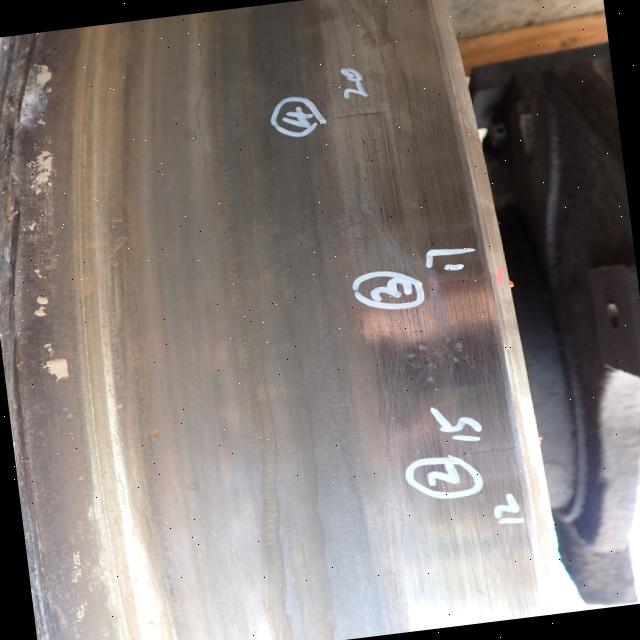Brake_Thermal_Cracks: (320, 101, 392, 134), (421, 267, 499, 295), (458, 438, 522, 470)
